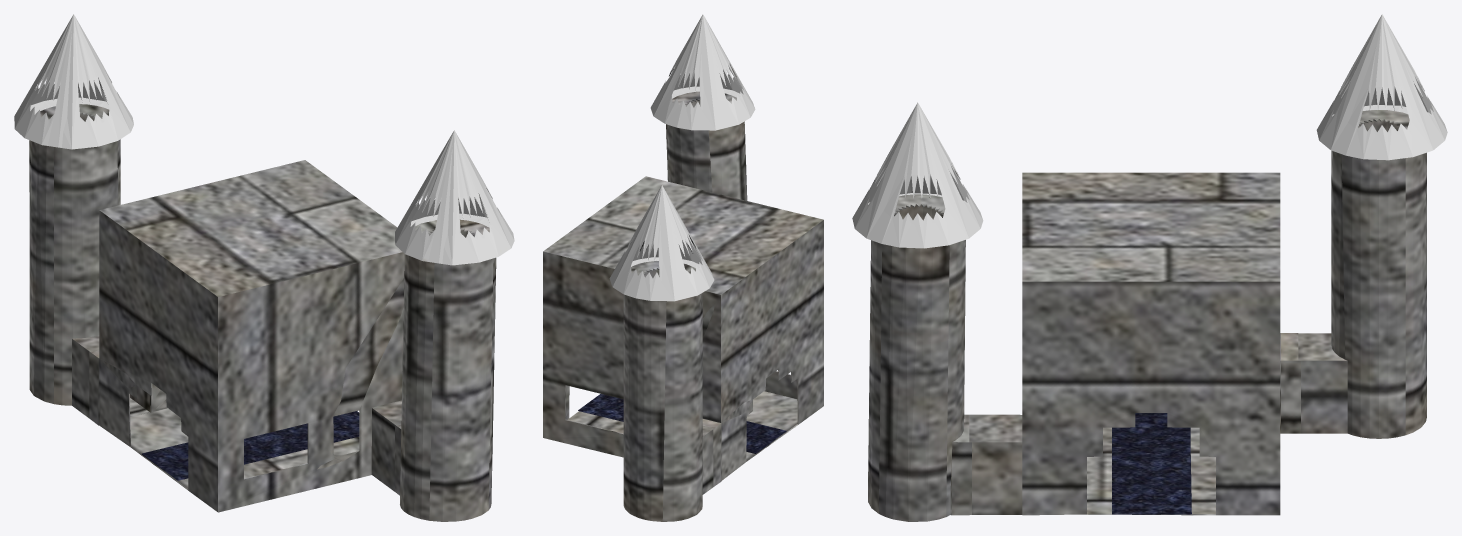
File: castle4.dae
3 renders of one model, left to right at view 1: azimuth 30°, elevation 25°; view 2: azimuth 150°, elevation 25°; view 3: azimuth 270°, elevation 25°, orthographic. The views are drawn at different scales.
Parts seen in each view (by area): view 1: Cube; view 2: Cube; view 3: Cube.
Boxes of the visible parts, x1,y1,x2,y2 form: Cube: [14, 14, 514, 521]; Cube: [543, 14, 823, 521]; Cube: [852, 14, 1447, 521].
Size of the model in its own units: 0.1774 by 0.3109 by 0.2328.
Materials: 1 (1 with a texture image).
